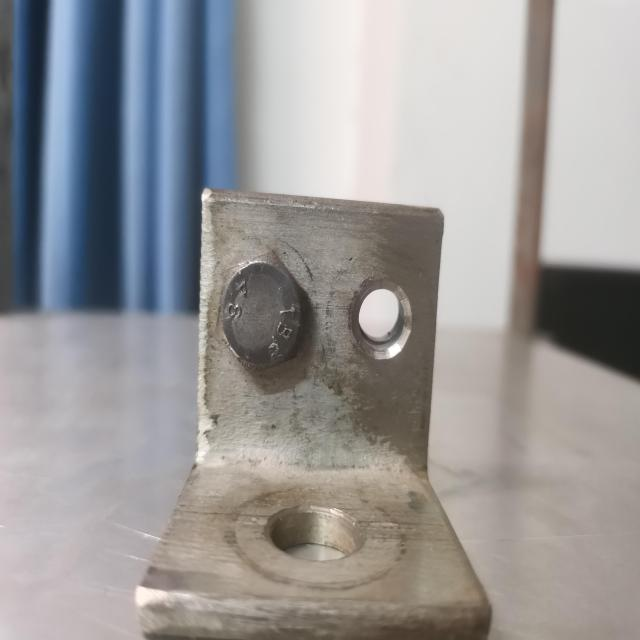bolt head: (214, 249, 311, 376)
